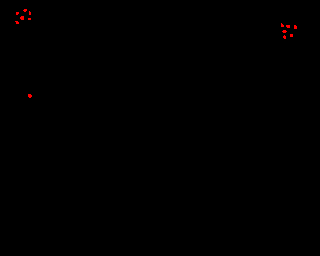Target: (20, 16, 24, 20), (28, 94, 32, 98), (282, 30, 287, 33), (23, 9, 27, 12), (15, 21, 19, 24), (281, 23, 284, 27), (286, 25, 290, 28), (294, 25, 297, 29), (283, 35, 286, 39), (16, 12, 19, 15), (290, 34, 293, 37), (29, 11, 31, 15), (28, 18, 31, 20)
